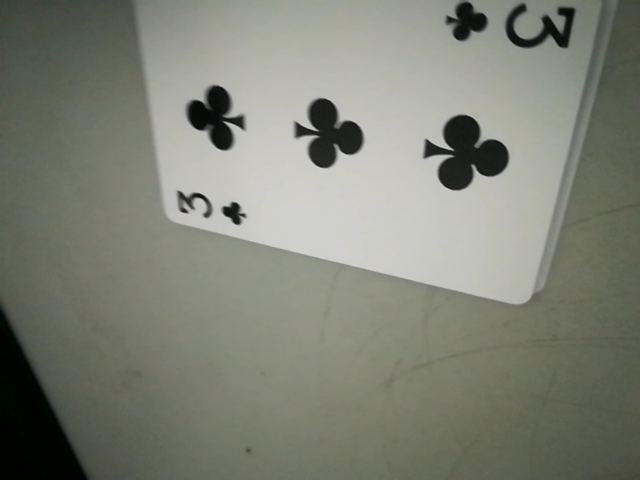mh 3: (444, 0, 579, 56), (168, 187, 256, 231)
